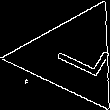L_NW: (38, 30, 106, 82)
